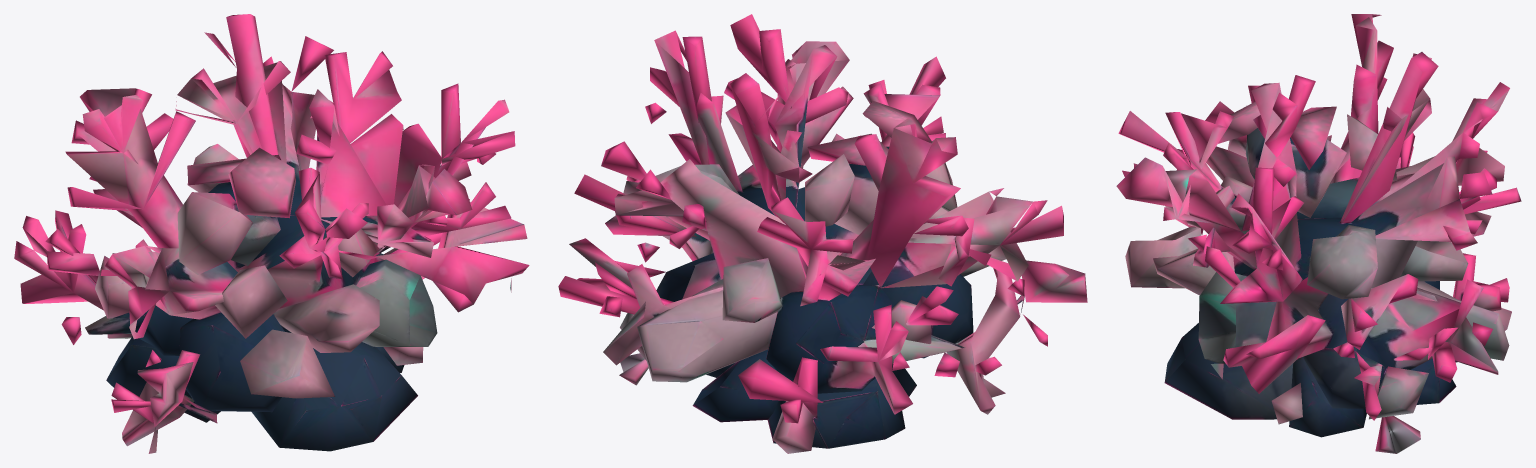
File: coral.glb
The picture shows the model from 3 angles, left to right: view 1: azimuth 30°, elevation 25°; view 2: azimuth 150°, elevation 25°; view 3: azimuth 270°, elevation 25°; orthographic projection. The views are drawn at different scales.
Size of the model in its own units: 1 by 0.7862 by 0.8608.
Materials: 1 (1 with a texture image).
